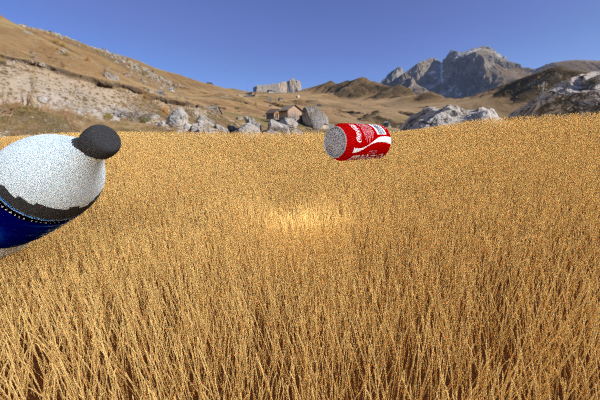Plastic Bottle: (0, 124, 123, 267), (0, 162, 64, 400), (171, 128, 208, 147)
